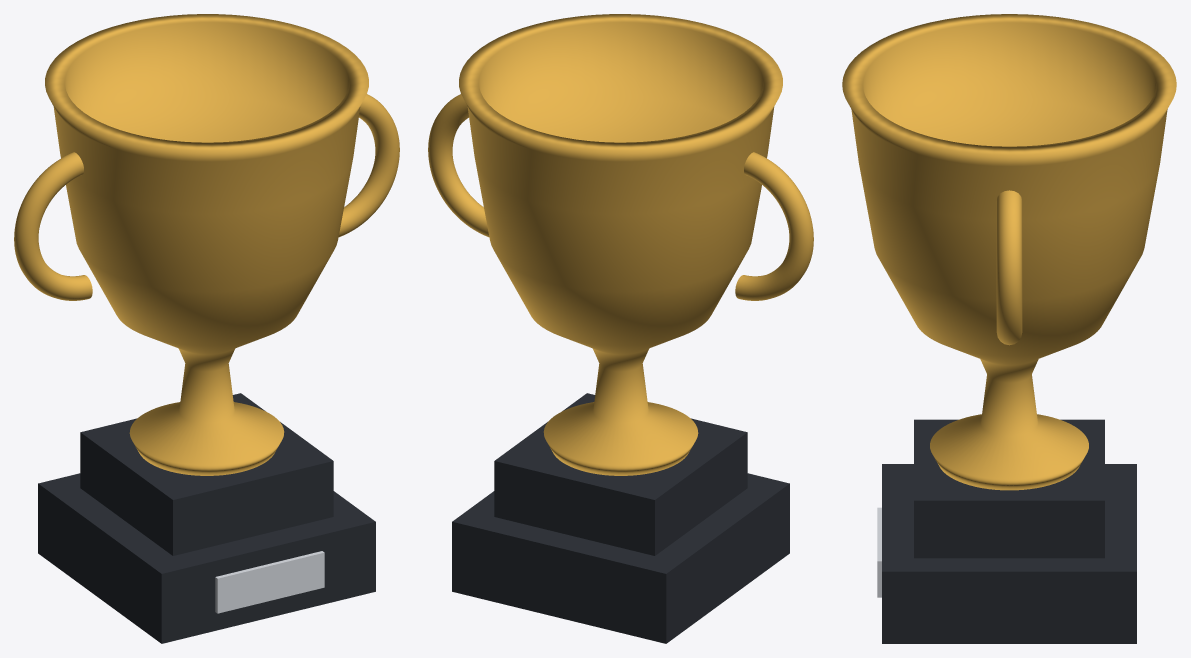
The model's file is trophy.glb.
The picture shows the model from 3 angles, left to right: view 1: azimuth 30°, elevation 25°; view 2: azimuth 150°, elevation 25°; view 3: azimuth 270°, elevation 25°; orthographic projection. The views are drawn at different scales.
Parts seen in each view (by area): view 1: Cup, Base, BaseTop, HandleLeft, Plate, HandleRight; view 2: Cup, Base, BaseTop, HandleLeft, HandleRight; view 3: Cup, Base, BaseTop, HandleRight.
Part boxes in pixels (<box>): Cup: <box>45,14,368,475</box>; Base: <box>38,473,375,643</box>; BaseTop: <box>80,393,333,555</box>; HandleLeft: <box>14,152,92,300</box>; Plate: <box>215,551,324,613</box>; HandleRight: <box>338,94,399,237</box>; Cup: <box>459,14,782,475</box>; Base: <box>452,473,789,643</box>; BaseTop: <box>494,393,747,555</box>; HandleLeft: <box>735,152,813,300</box>; HandleRight: <box>428,94,489,237</box>; Cup: <box>842,14,1176,490</box>; Base: <box>882,464,1136,643</box>; BaseTop: <box>914,419,1104,558</box>; HandleRight: <box>996,190,1022,345</box>.
Size of the model in its own units: 0.286 by 0.35 by 0.21.
